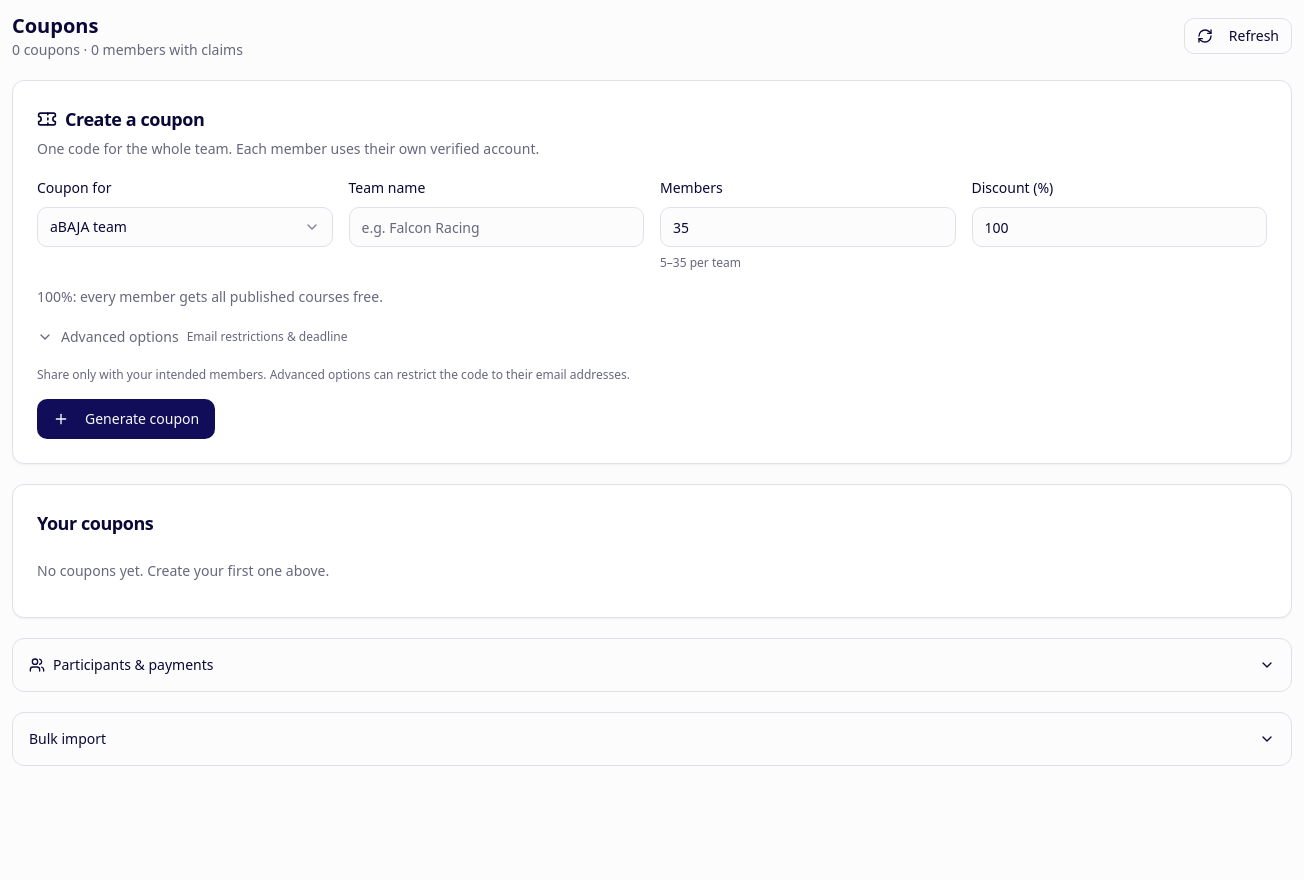
Test case: admin percentage coupon creation › requires the individual recipient email in the main form and fixes the member count at one
Expected: the button "Generate coupon" is enabled, [37,399,215,439]
Press ArrowDown in the dropdown named "Coupon for", box [37,207,332,247]
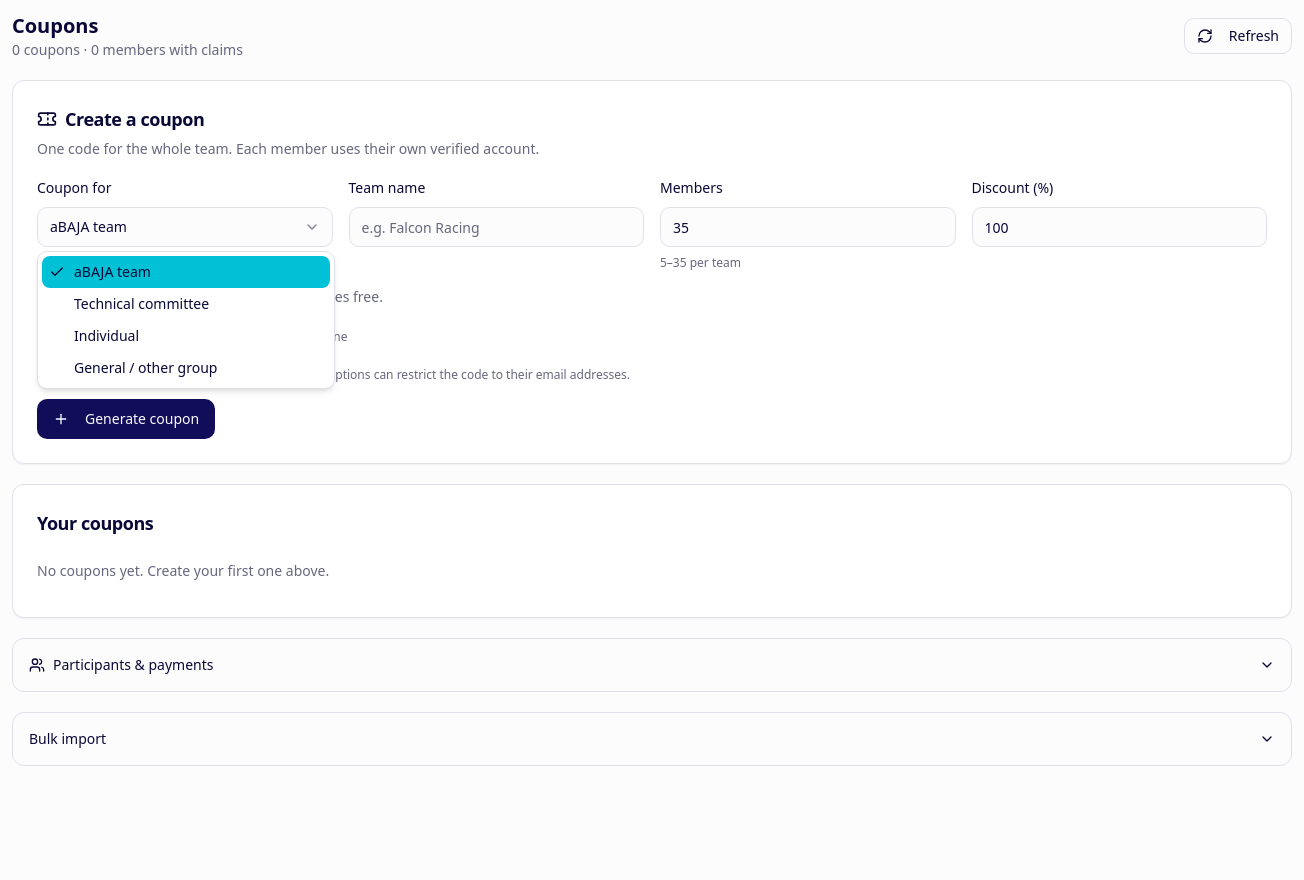
Press Enter in the option "Individual", box [74,326,139,345]
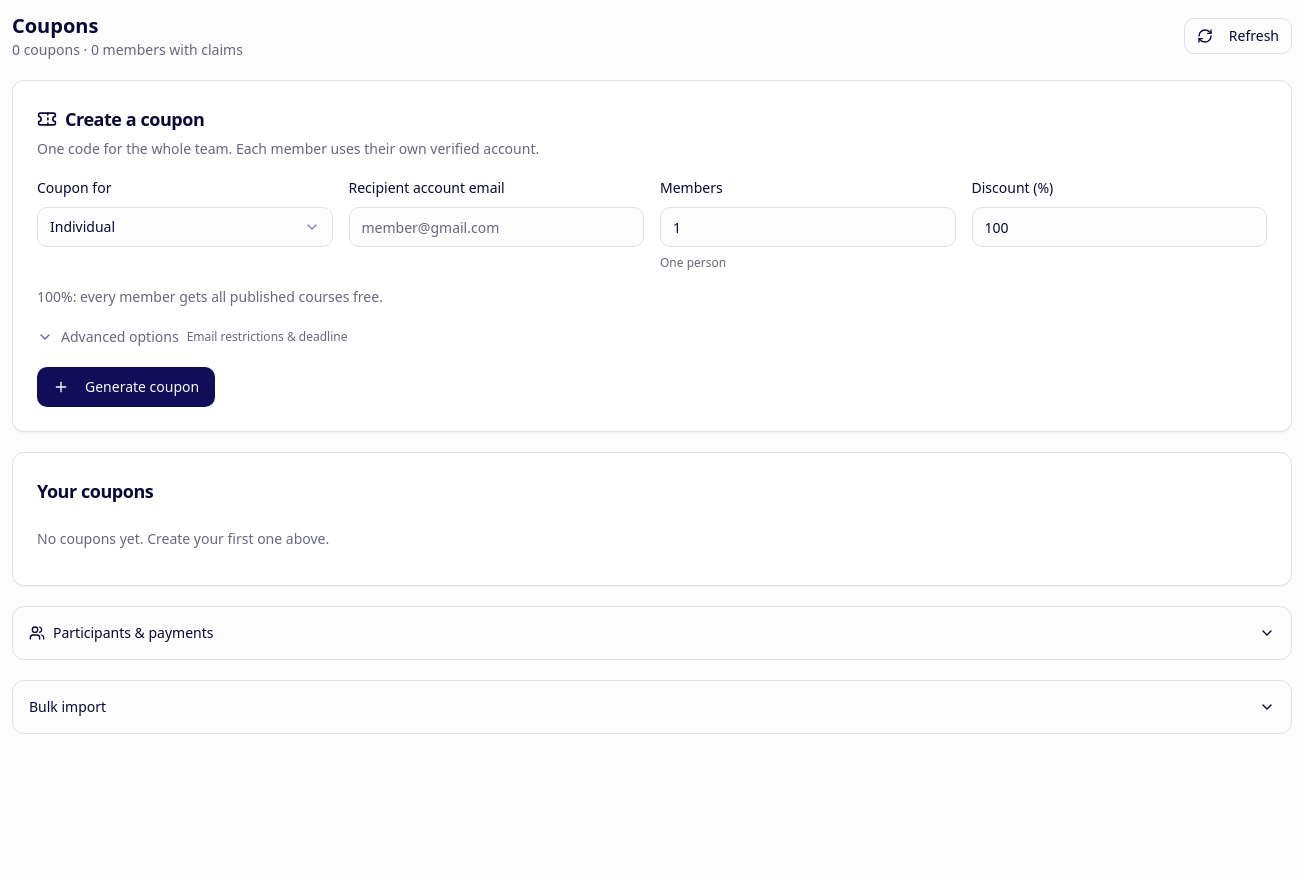
Expected: the number field labelled "Members" holds "1", [660,207,956,247]
Click the button "Generate coupon" at (126, 387), box [37,367,215,407]
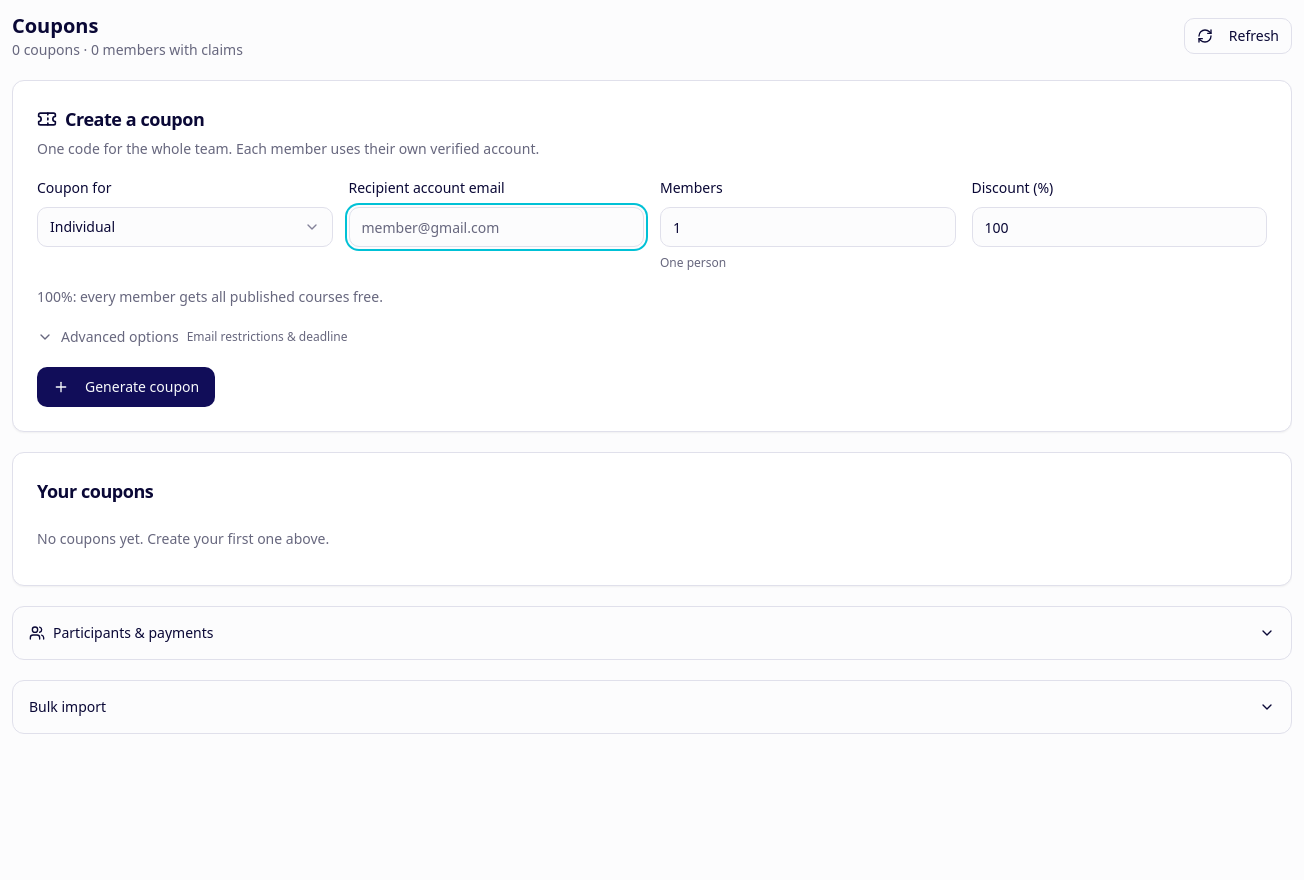
Type "learner@college.edu" into the field labelled "Recipient account email" at (496, 227), box [348,207,644,247]
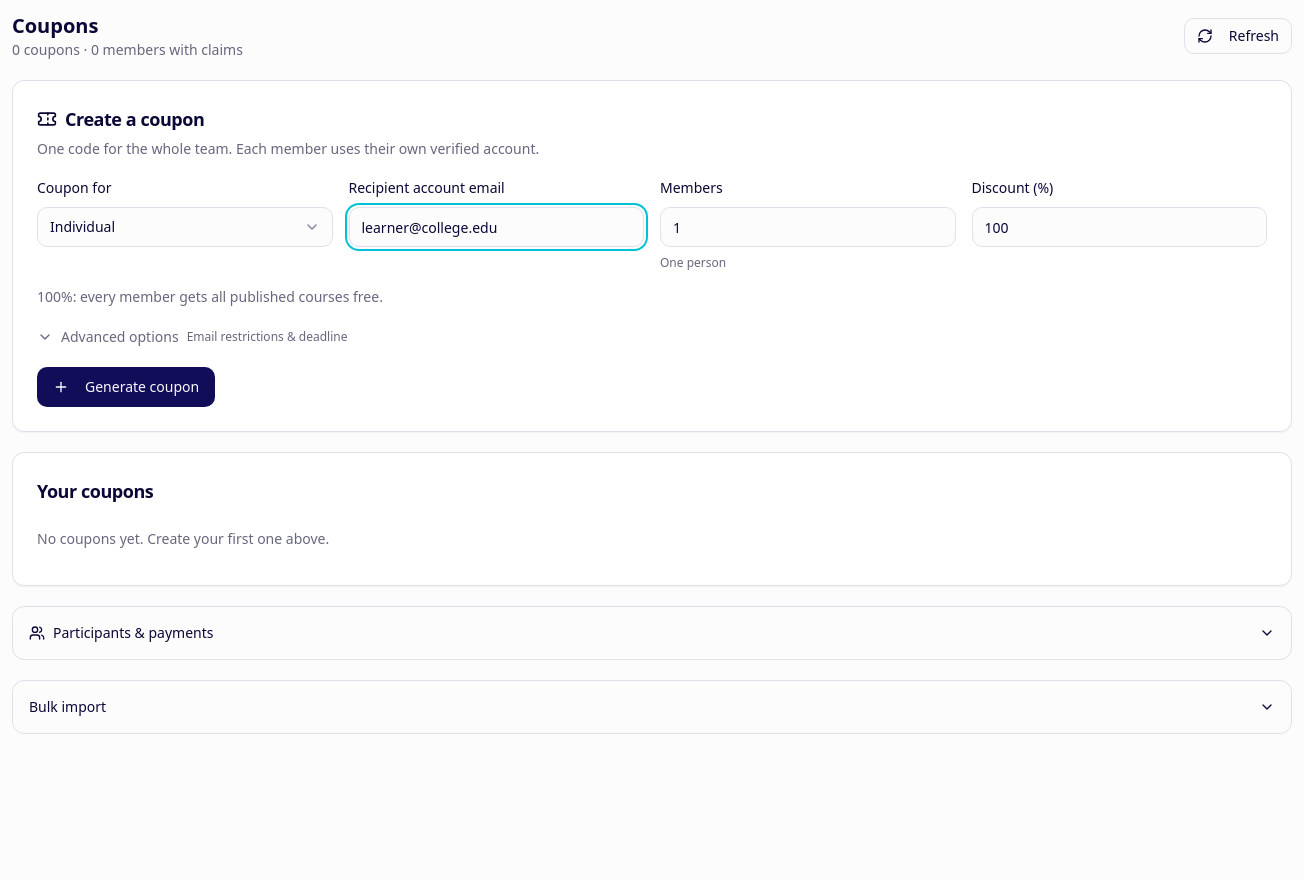
Click the button "Generate coupon" at (126, 387), box [37,367,215,407]
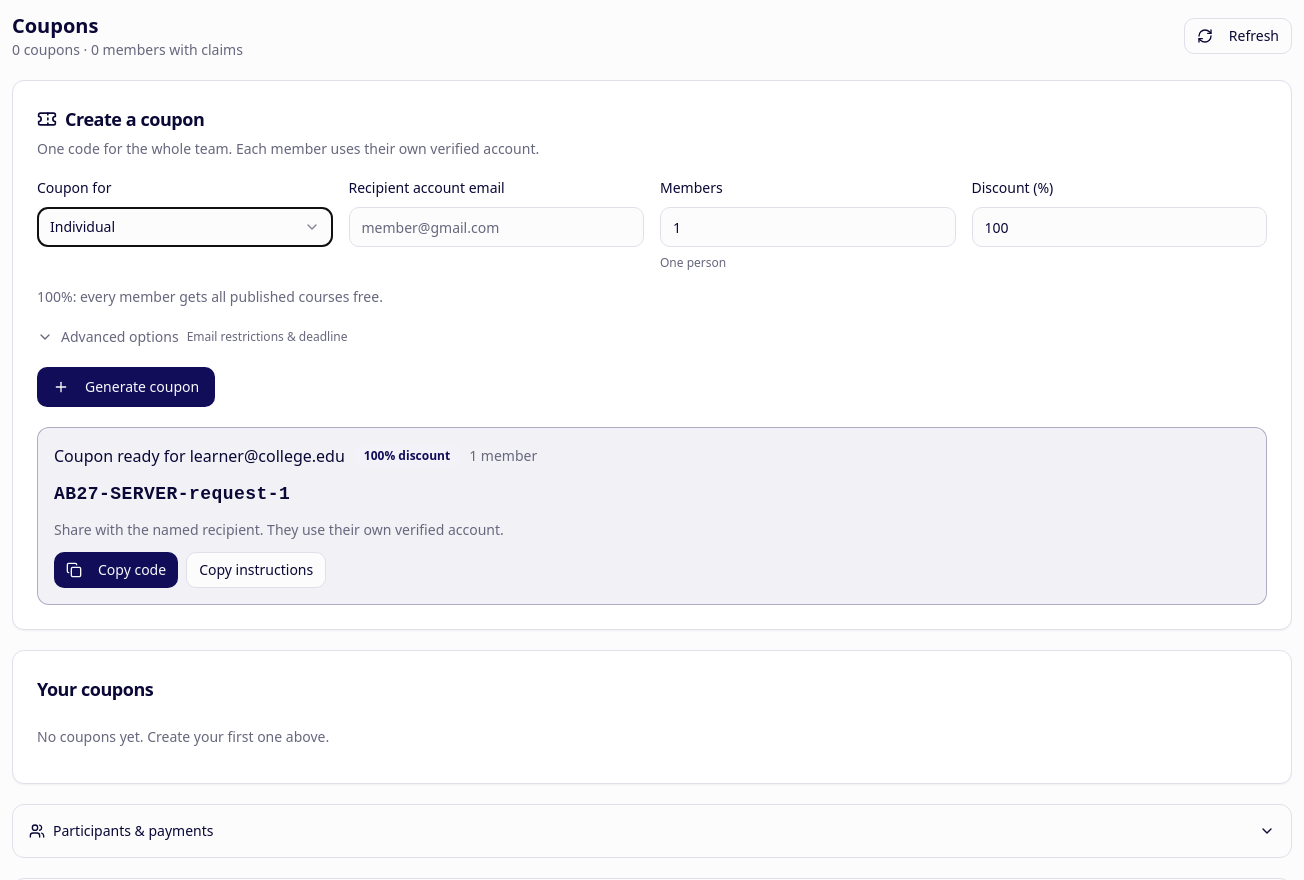
Expected: the text "AB27-SERVER-request-1" is shown, [54,484,290,504]
